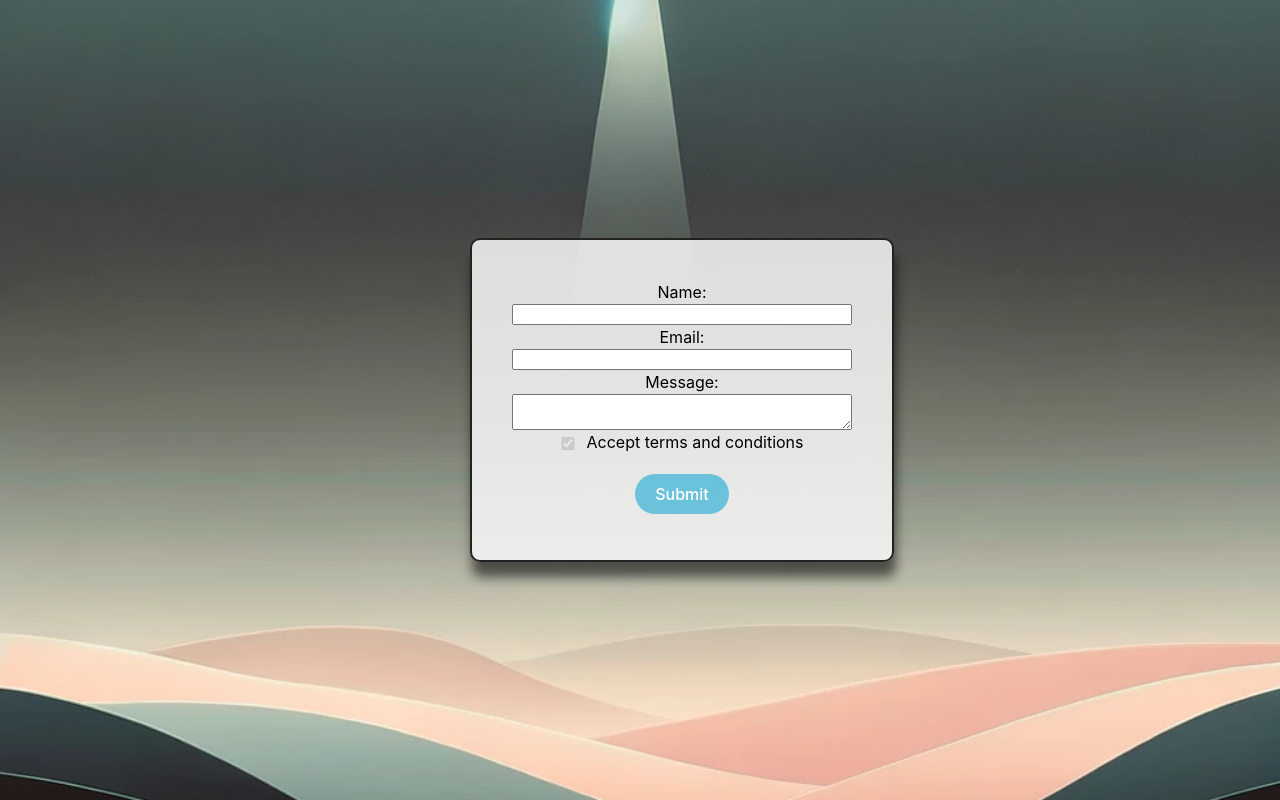
Test: ContactForm.vue › submits the form successfully and clears the form on success
In the field with test id "nameField": (682, 314) [512, 304, 852, 325], type "Optimus Prime"
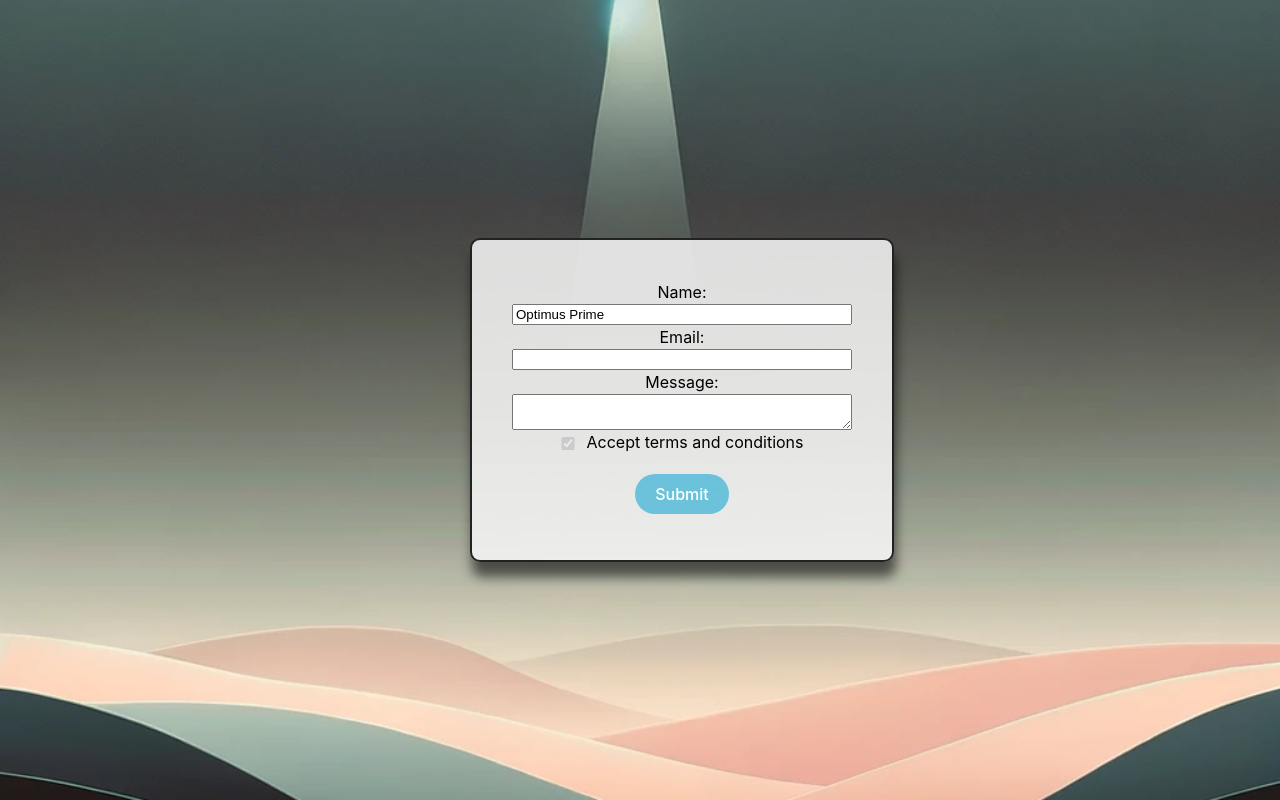
In the field with test id "emailField": (682, 360) [512, 349, 852, 370], type "optimus@cybertron.com"
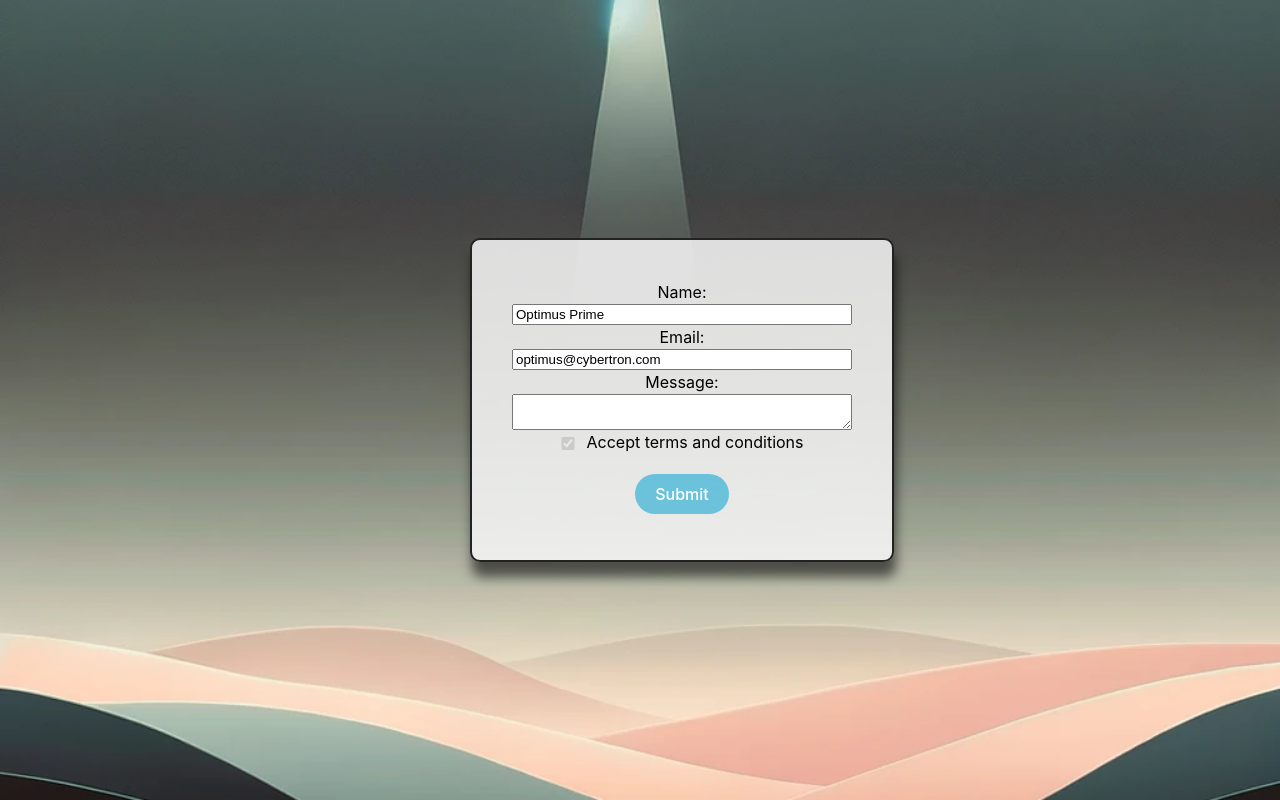
In the text box with test id "messageField": (682, 412) [512, 394, 852, 430], type "This is more than 10 characters."
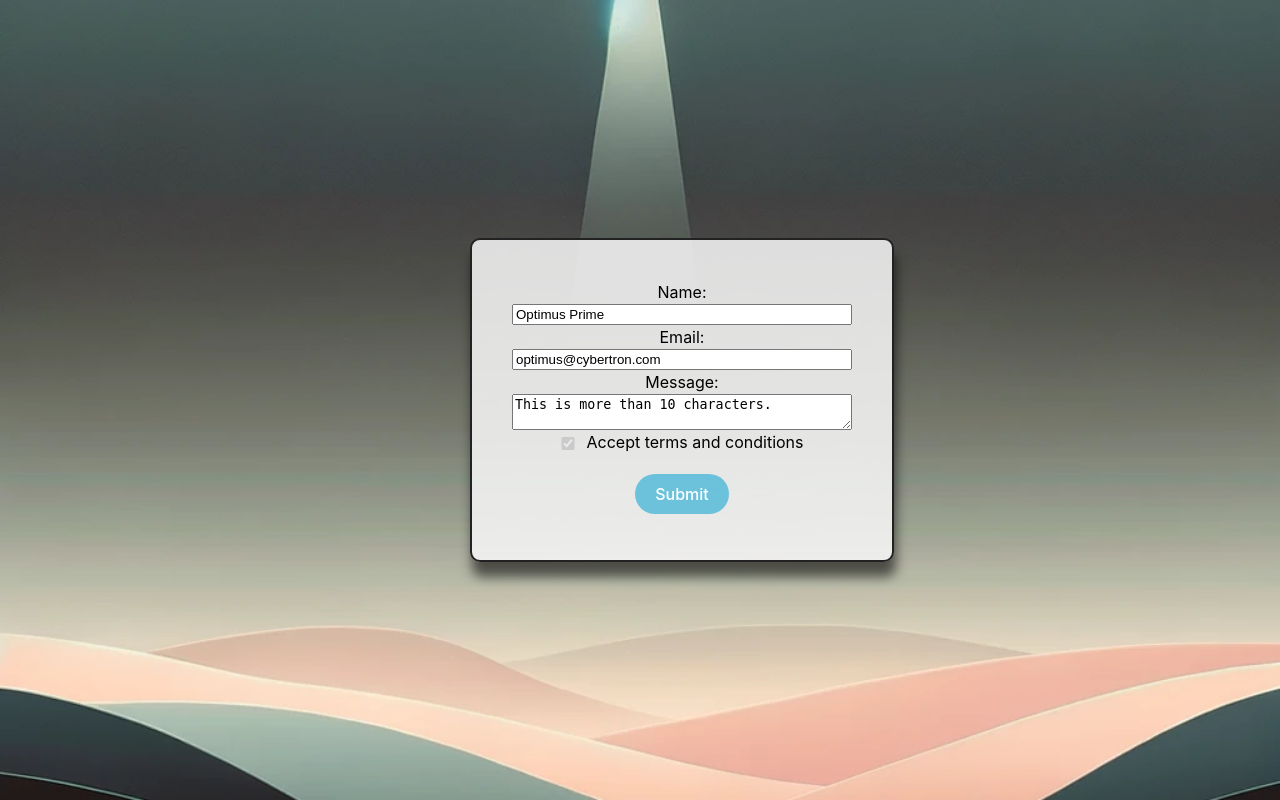
Submit the form, box [470, 238, 894, 562]
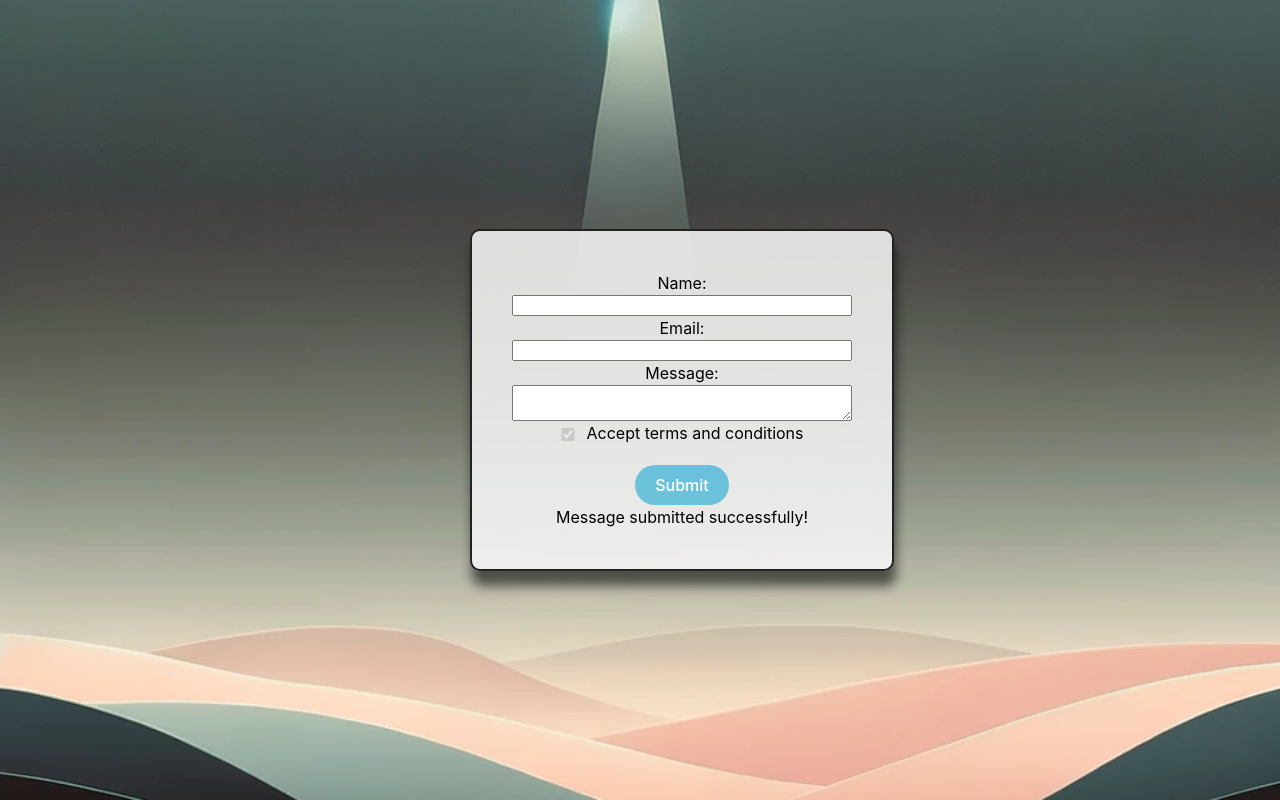
Check: the form shows "Message submitted successfully!", box [556, 507, 808, 527]
